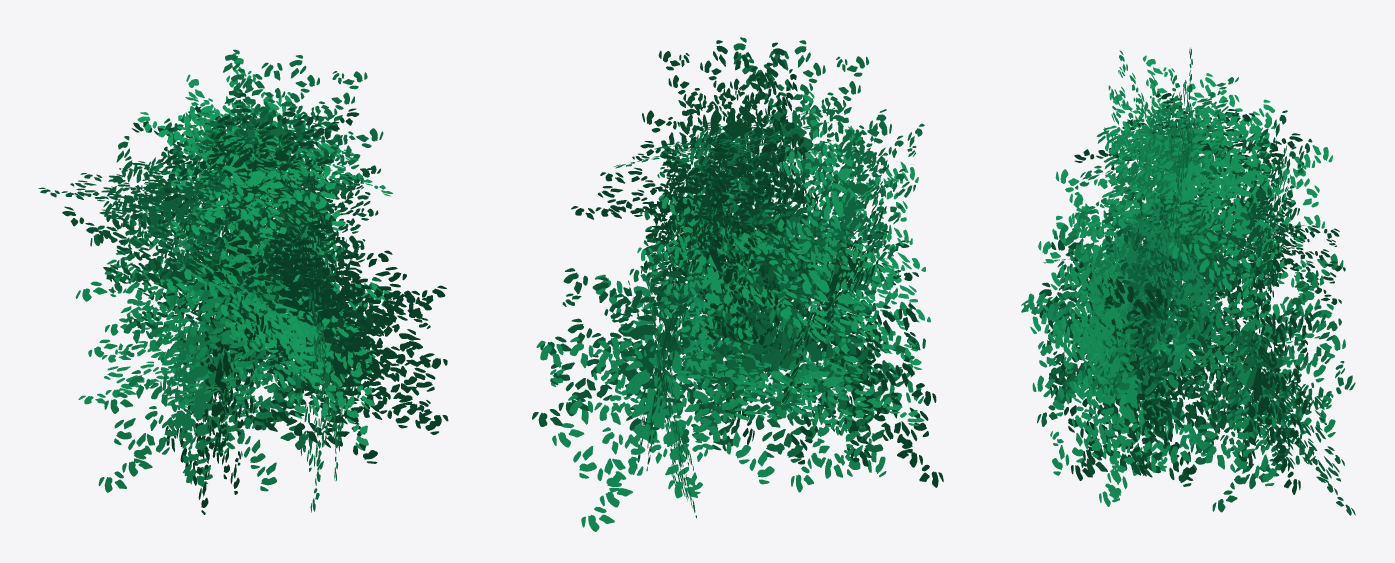
File: s_Bush1.fbx
The picture shows the model from 3 angles, left to right: view 1: azimuth 30°, elevation 25°; view 2: azimuth 150°, elevation 25°; view 3: azimuth 270°, elevation 25°; orthographic projection. The views are drawn at different scales.
Visible parts, largest first — view 1: sBush1; view 2: sBush1; view 3: sBush1.
Part boxes in pixels (<box>): sBush1: <box>38,49,448,514</box>; sBush1: <box>532,37,943,531</box>; sBush1: <box>1021,47,1355,515</box>.
Size of the model in its own units: 132 by 164 by 118.
